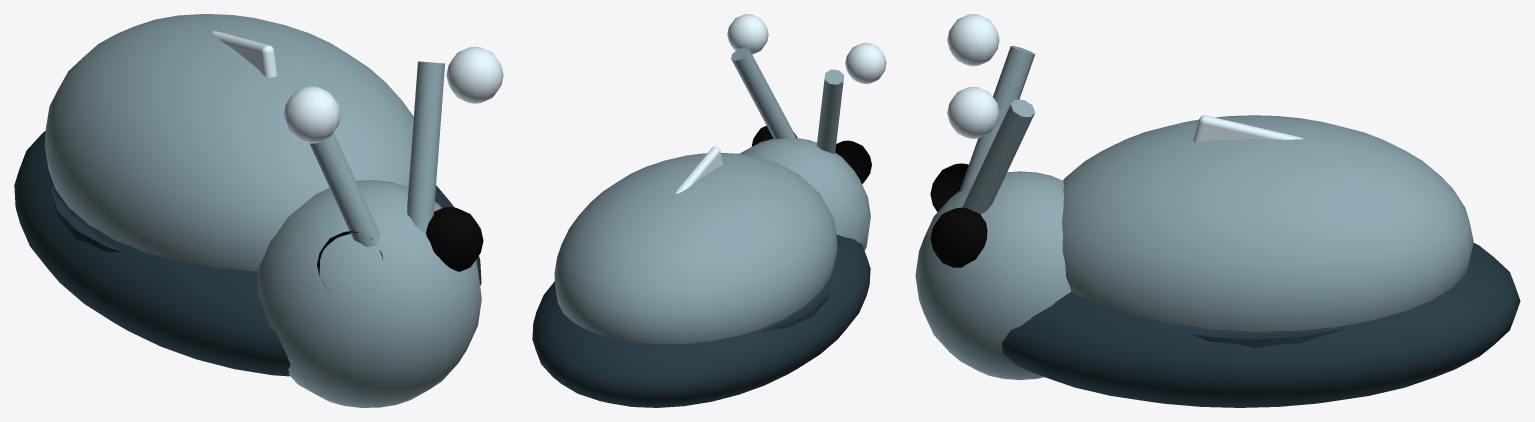
Rendered from rafaga.obj.
The picture shows the model from 3 angles, left to right: view 1: azimuth 30°, elevation 25°; view 2: azimuth 150°, elevation 25°; view 3: azimuth 270°, elevation 25°; orthographic projection. The views are drawn at different scales.
Bounding box in the file's own units: 0.448 × 0.4234 × 0.7246.
